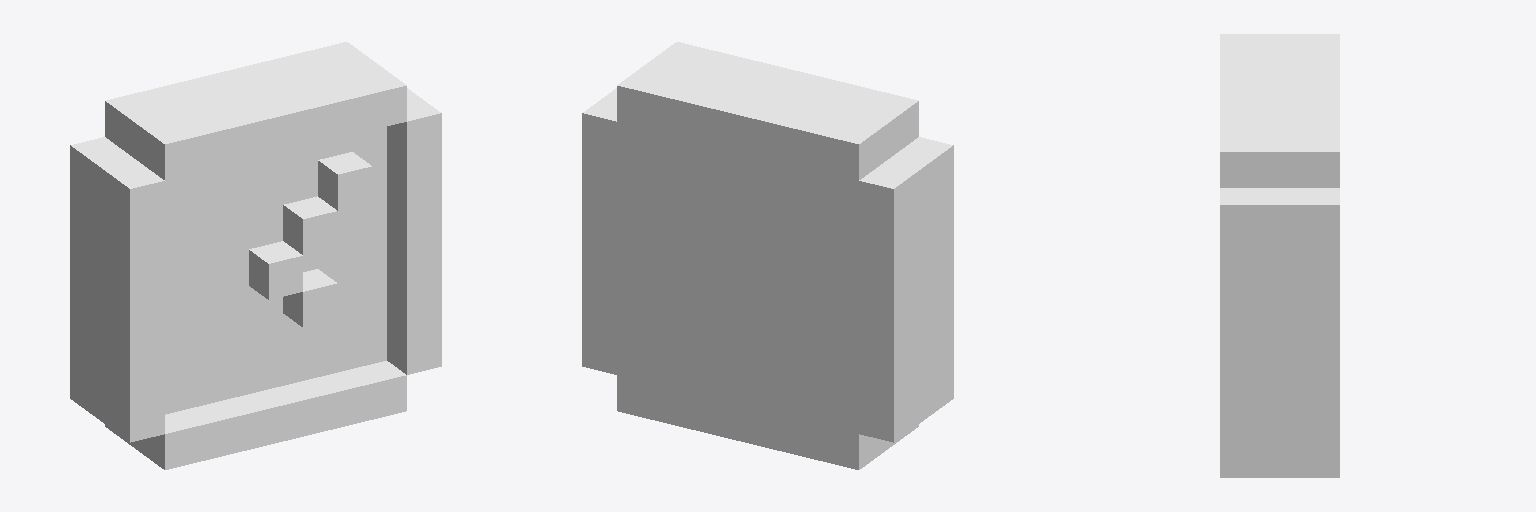
Rendered from clock.obj.
3 renders of one model, left to right at view 1: azimuth 30°, elevation 25°; view 2: azimuth 150°, elevation 25°; view 3: azimuth 270°, elevation 25°, orthographic.
Parts seen in each view (by area): view 1: object 1; view 2: object 1; view 3: object 1.
Boxes of the visible parts, x1,y1,x2,y2 form: object 1: [70, 42, 441, 469]; object 1: [582, 42, 953, 469]; object 1: [1220, 34, 1339, 477].
Size of the model in its own units: 0.9 by 0.9 by 0.3.